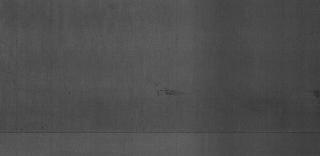oil spot: (154, 85, 190, 97), (312, 88, 320, 98)
welding line: (1, 128, 320, 138)
